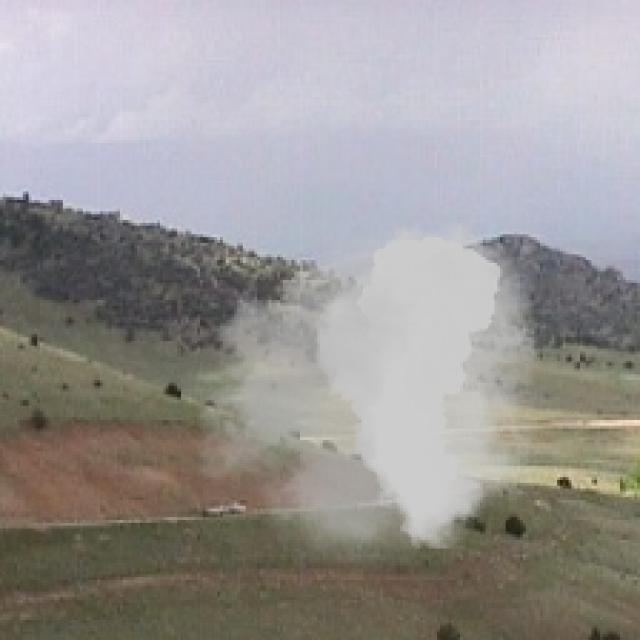smoke: (177, 212, 566, 572)
